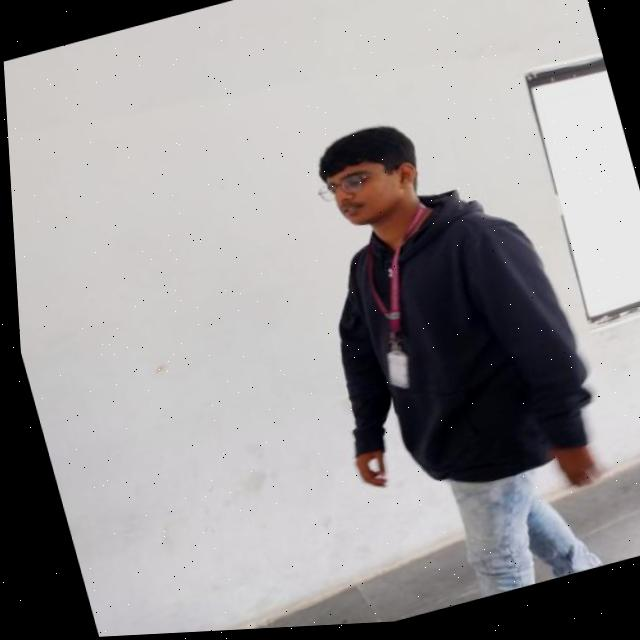id_card: (336, 216, 462, 398)
